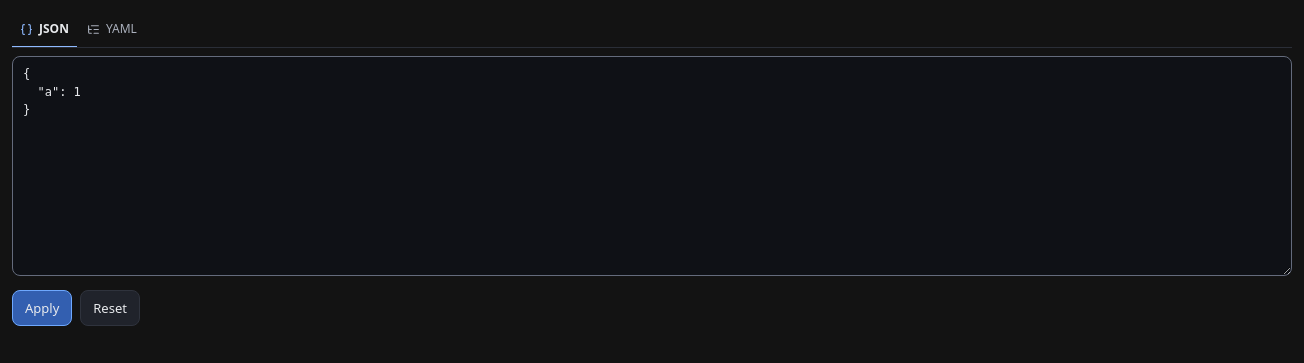
RawConfigEditor › shows validator errors without applying
Replace the text in the text box with "[1]": (652, 166) x1=12 y1=56 x2=1292 y2=276
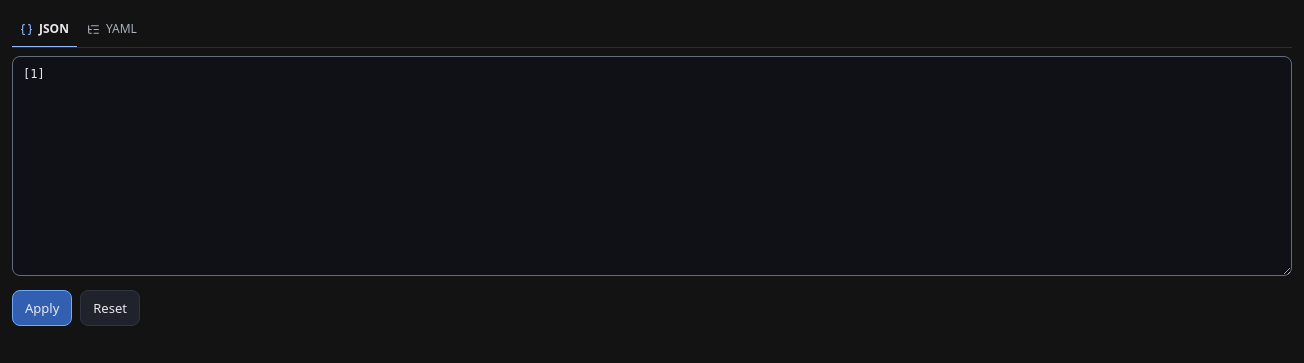
Click the button "Apply": (42, 308) x1=12 y1=290 x2=72 y2=326
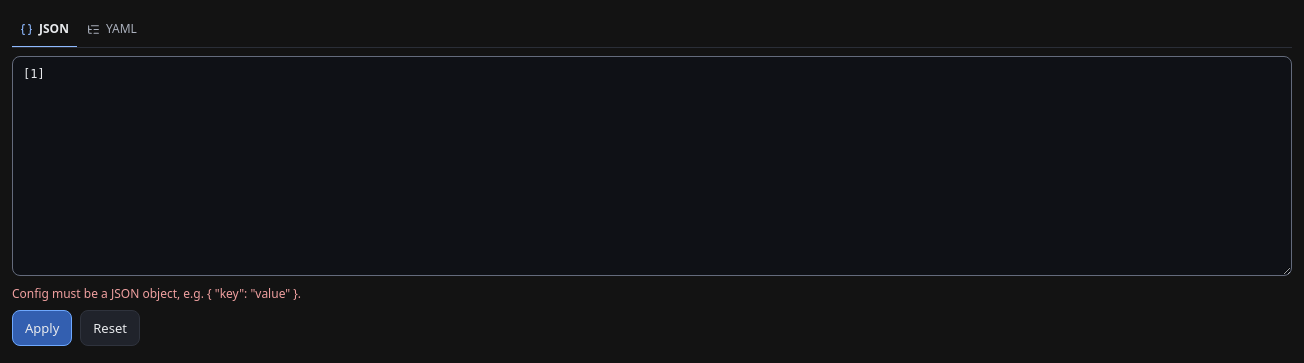
Expected: the message shows "must be a JSON object", x1=12 y1=285 x2=301 y2=302
